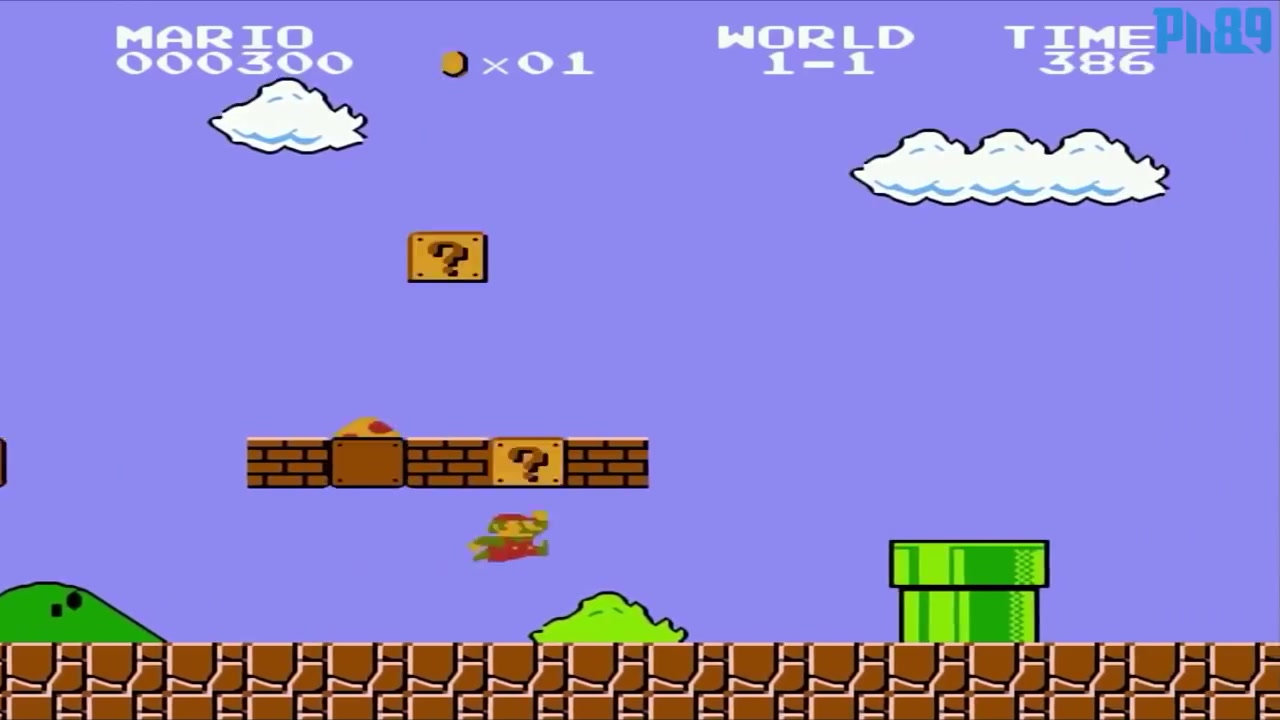mario: (458, 505, 555, 568)
